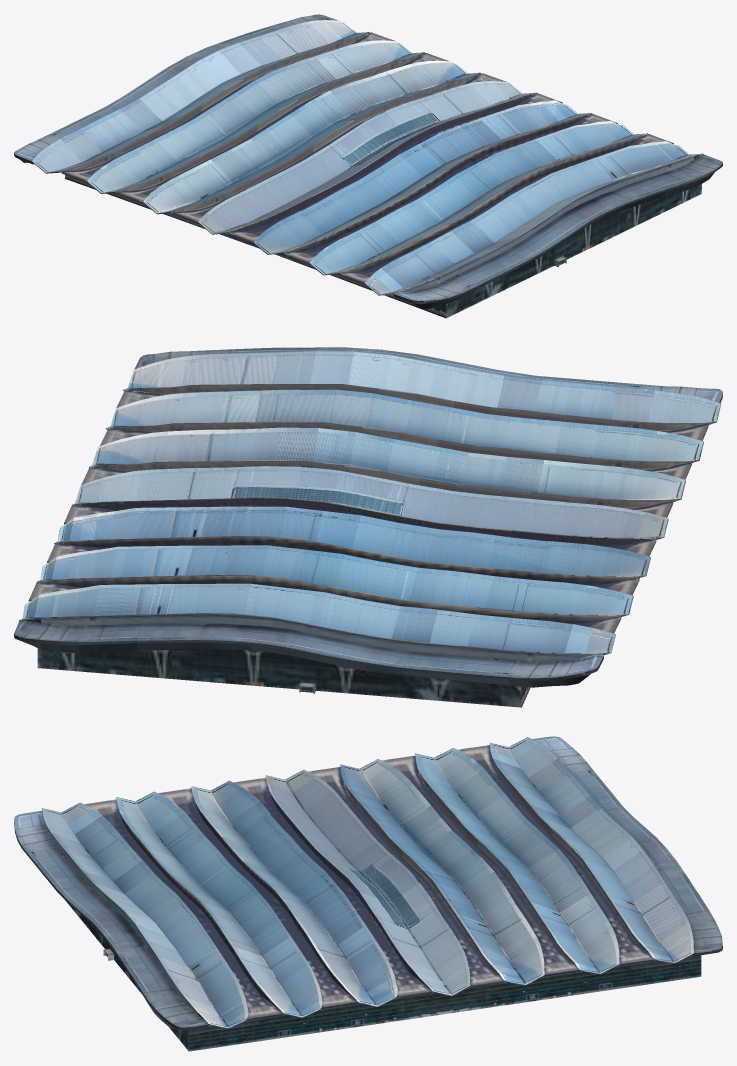
The model's file is building-concourse.glb.
3 views of the same model, one above another, from view 1: azimuth 30°, elevation 25°; view 2: azimuth 150°, elevation 25°; view 3: azimuth 270°, elevation 25° (orthographic). The views are drawn at different scales.
Parts seen in each view (by area): view 1: B116711973501063A0; view 2: B116711973501063A0; view 3: B116711973501063A0.
Boxes of the visible parts, x1=… form: B116711973501063A0: x1=14, y1=14, x2=722, y2=318; B116711973501063A0: x1=14, y1=347, x2=722, y2=707; B116711973501063A0: x1=14, y1=736, x2=722, y2=1051.
Bounding box in the file's own units: 56.08 × 5.55 × 60.
87 materials, 85 textured.
